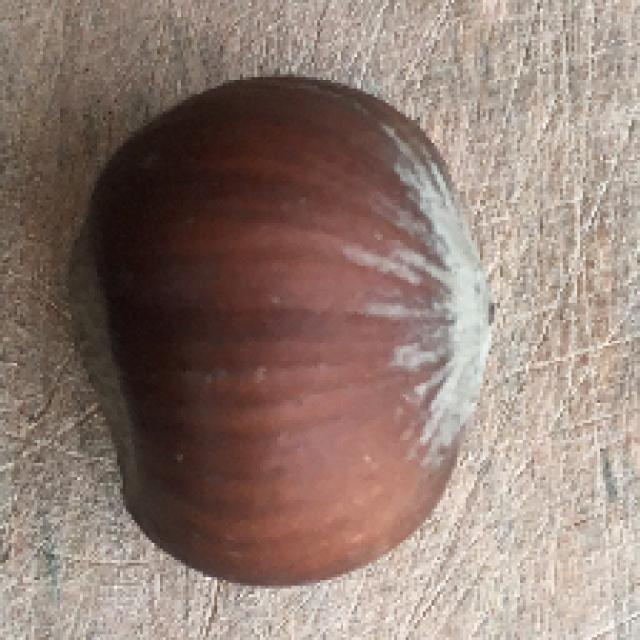damagedHazelnut: (52, 47, 514, 573)
